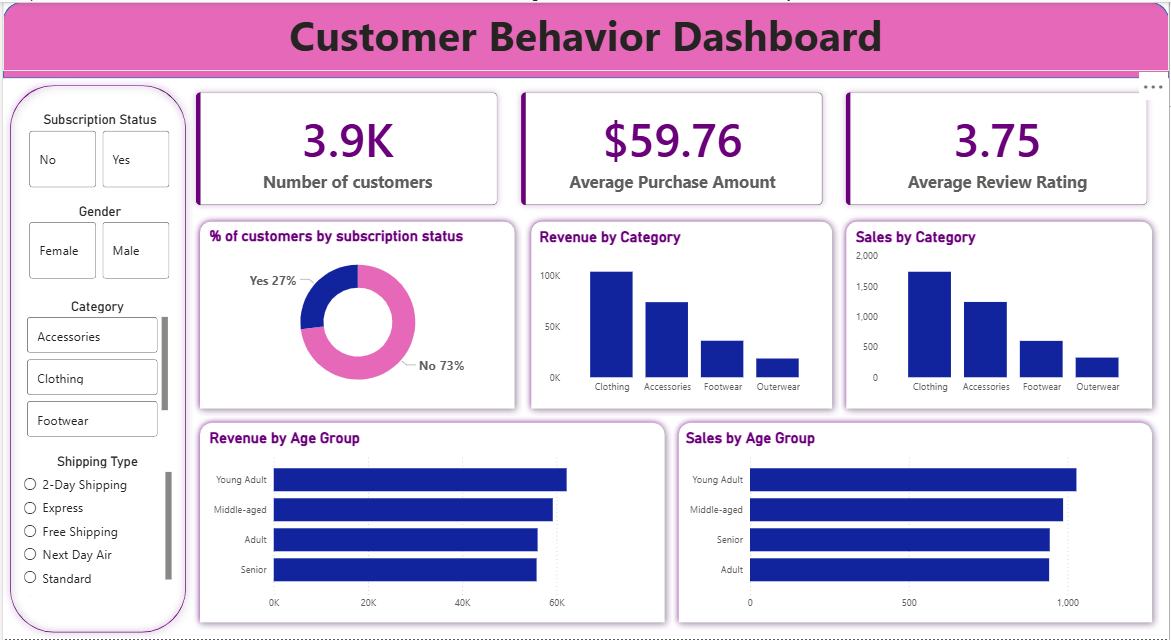

This screenshot's page, from the dashboard's own definition file:
{"tool":"powerbi","page":{"name":"Page 1","canvas":[1500,820],"ordinal":0},"visuals":[{"type":"cardVisual","fields":{"Data":["public customer.Number of customers","public customer.Average Purchase Amount","public customer.Average Review Rating"]},"box":[220.3,88.4,1280,201],"z":0},{"type":"shape","box":[0,0,1500.3,98.1],"z":1000},{"type":"textbox","box":[0,0,1500.3,88.4],"z":2000},{"type":"shape","box":[244.4,273.4,422.9,258.9],"z":3000},{"type":"donutChart","title":"% of customers by subscription status","fields":{"Category":["public customer.subscription_status"],"Y":["CountNonNull(public customer.customer_id)"]},"box":[260.5,289.5,392.4,223.5],"z":4000},{"type":"shape","box":[670.6,273.4,405.2,258.9],"z":5000},{"type":"shape","box":[1075.8,273.4,411.7,258.9],"z":6000},{"type":"clusteredColumnChart","title":"Revenue by Category","fields":{"Category":["public customer.category"],"Y":["Sum(public customer.purchase_amount)"]},"box":[685,291.1,374.7,221.9],"z":7000},{"type":"clusteredColumnChart","title":"Sales by Category","fields":{"Category":["public customer.category"],"Y":["CountNonNull(public customer.customer_id)"]},"box":[1091.9,291.1,379.5,221.9],"z":8000},{"type":"shape","box":[0,98.1,244.4,722],"z":9000},{"type":"advancedSlicerVisual","fields":{"Values":["public customer.subscription_status"]},"box":[28.9,141.5,191.4,102.9],"z":10000},{"type":"advancedSlicerVisual","fields":{"Values":["public customer.gender"]},"box":[28.9,258.9,191.4,102.9],"z":11000},{"type":"advancedSlicerVisual","fields":{"Values":["public customer.category"]},"box":[25.7,381.1,191.4,183.3],"z":12000},{"type":"listSlicer","fields":{"Values":["public customer.shipping_type"]},"box":[20.9,580.5,201,188.1],"z":13000},{"type":"shape","box":[244.4,532.3,615.9,275],"z":14000},{"type":"clusteredBarChart","title":"Revenue by Age Group","fields":{"Category":["public customer.age_group"],"Y":["Sum(public customer.purchase_amount)"]},"box":[260.5,550,527.4,241.2],"z":15000},{"type":"shape","box":[860.3,532.3,627.1,275],"z":15001},{"type":"clusteredBarChart","title":"Sales by Age Group","fields":{"Category":["public customer.age_group"],"Y":["CountNonNull(public customer.customer_id)"]},"box":[873.2,550,598.2,241.2],"z":15002}]}

Visuals, with their boxes in screenshot pixels (x1, y1, x2, y2), scaled from the page's 1500x820 canvas onto the 1171x640 screenshot:
cardVisual - public customer.Number of customers x public customer.Average Purchase Amount: rect(172, 69, 1170, 226)
shape: rect(0, 0, 1170, 77)
textbox: rect(0, 0, 1170, 69)
shape: rect(191, 213, 521, 415)
"% of customers by subscription status" donutChart: rect(203, 226, 510, 400)
shape: rect(524, 213, 840, 415)
shape: rect(840, 213, 1161, 415)
"Revenue by Category" clusteredColumnChart: rect(535, 227, 827, 400)
"Sales by Category" clusteredColumnChart: rect(852, 227, 1149, 400)
shape: rect(0, 77, 191, 639)
advancedSlicerVisual - public customer.subscription_status: rect(23, 110, 172, 191)
advancedSlicerVisual - public customer.gender: rect(23, 202, 172, 282)
advancedSlicerVisual - public customer.category: rect(20, 297, 169, 441)
listSlicer - public customer.shipping_type: rect(16, 453, 173, 600)
shape: rect(191, 415, 672, 630)
"Revenue by Age Group" clusteredBarChart: rect(203, 429, 615, 618)
shape: rect(672, 415, 1161, 630)
"Sales by Age Group" clusteredBarChart: rect(682, 429, 1149, 618)
